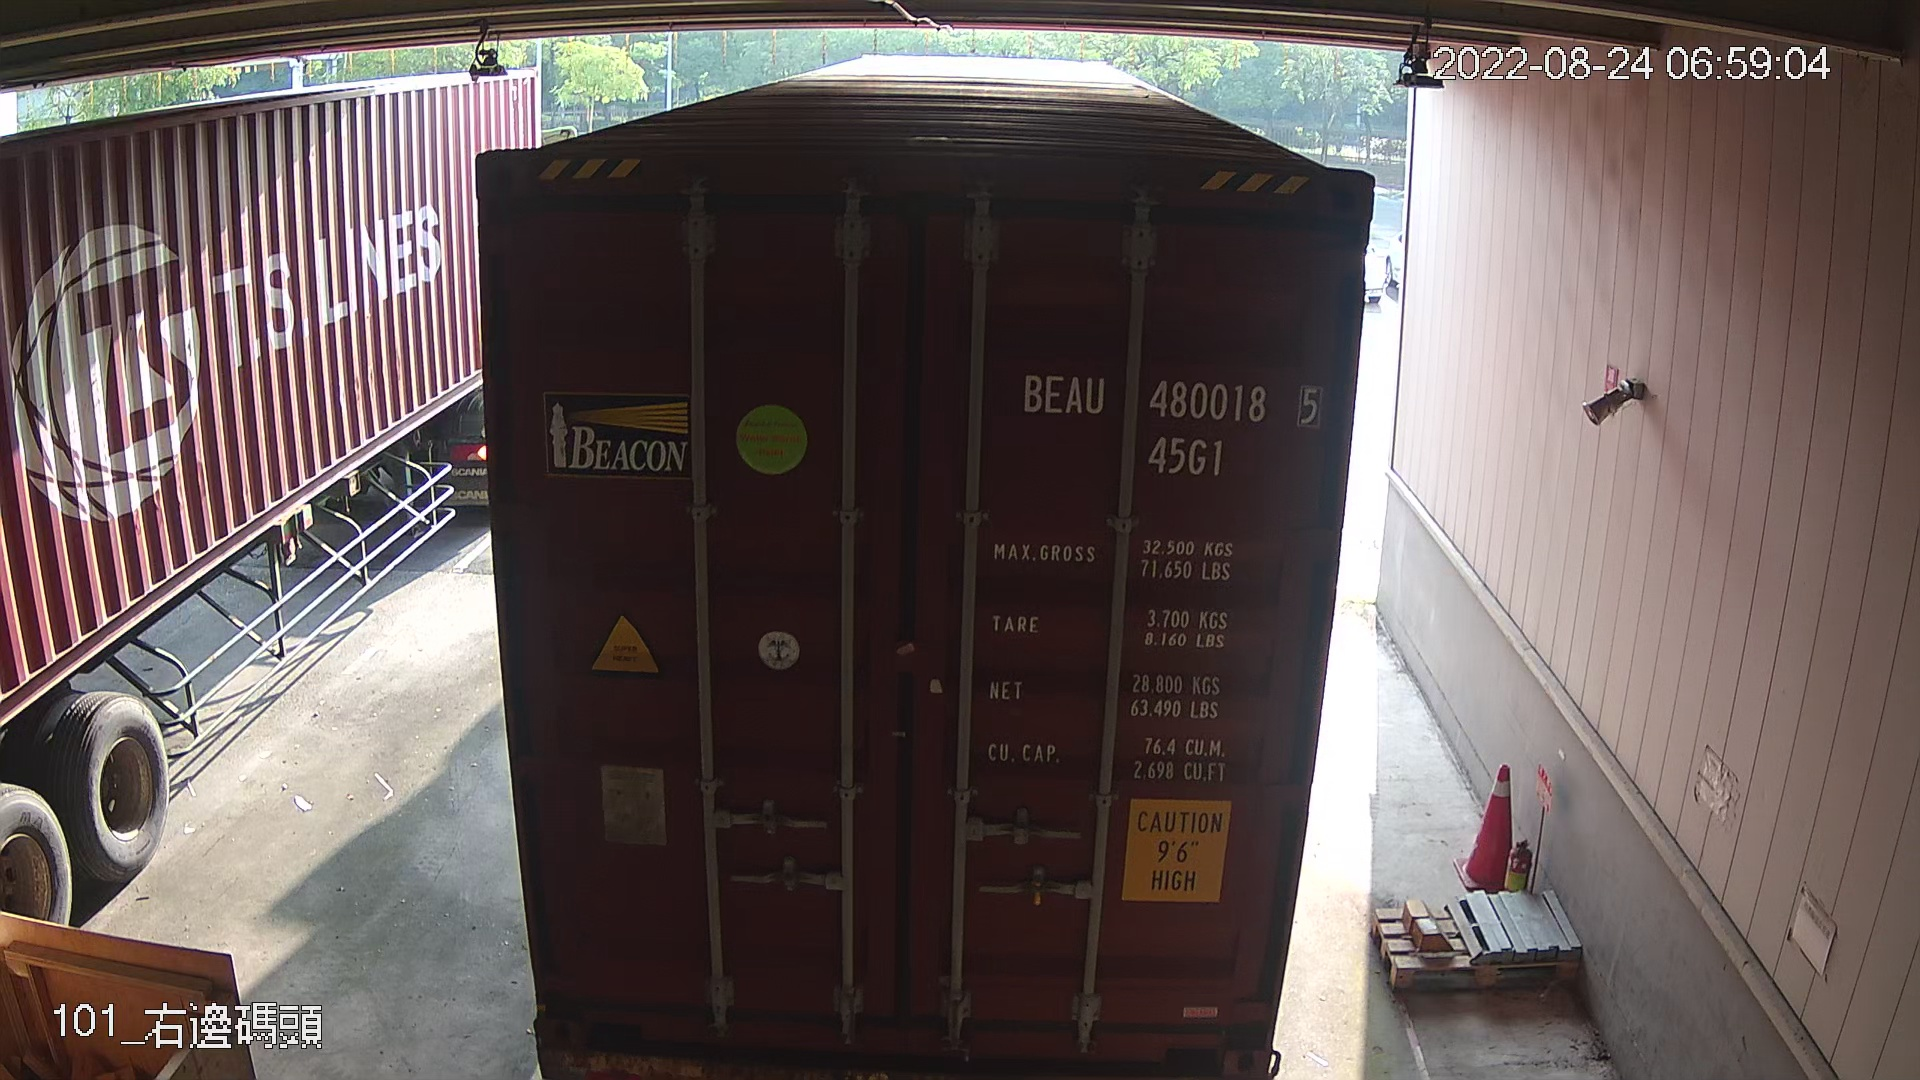container: (1006, 352, 1331, 487)
